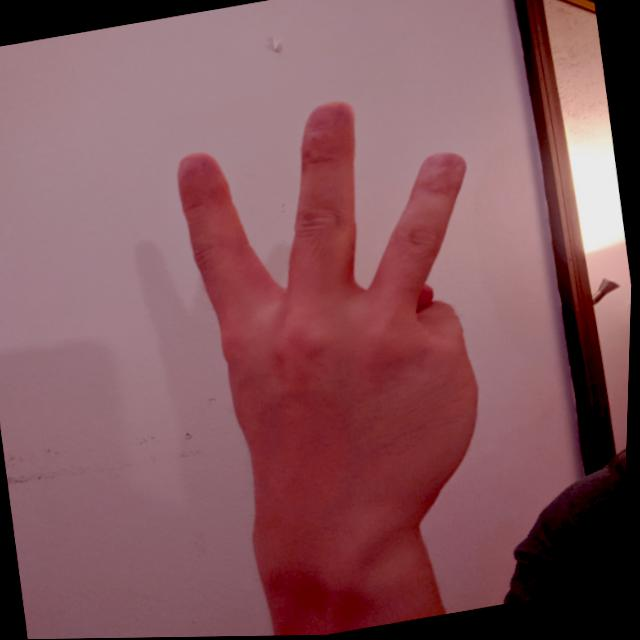W: (149, 72, 535, 571)
